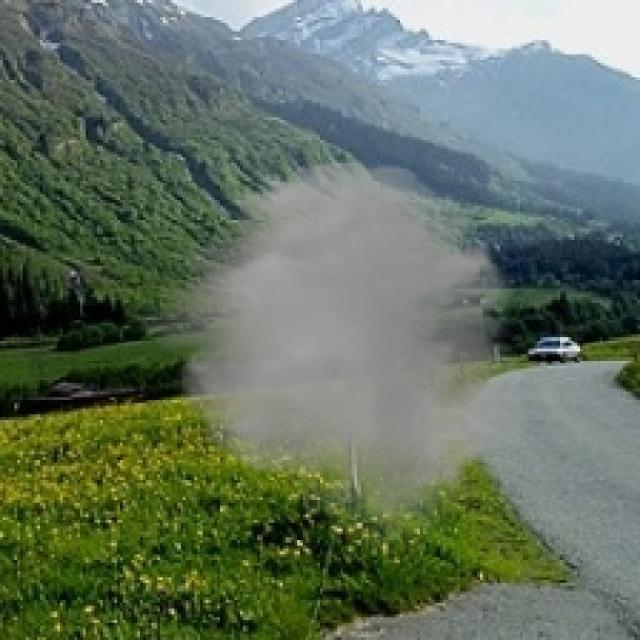smoke: (128, 152, 543, 552)
